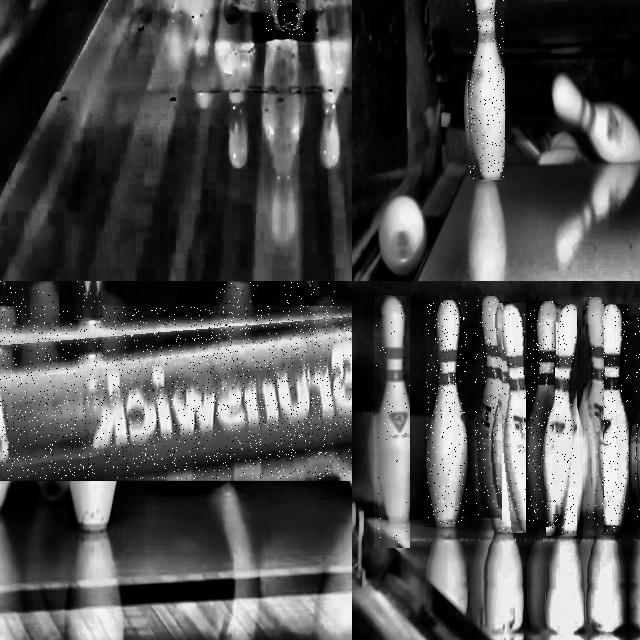bowling-pins: (426, 301, 467, 524), (376, 297, 409, 548), (592, 305, 628, 531), (467, 0, 505, 179), (527, 301, 557, 525), (549, 305, 576, 535), (499, 303, 525, 533), (475, 296, 499, 519), (586, 298, 601, 534), (26, 281, 59, 323), (216, 281, 253, 316), (297, 281, 335, 313), (77, 281, 100, 320)
sweep board: (0, 325, 352, 479)
